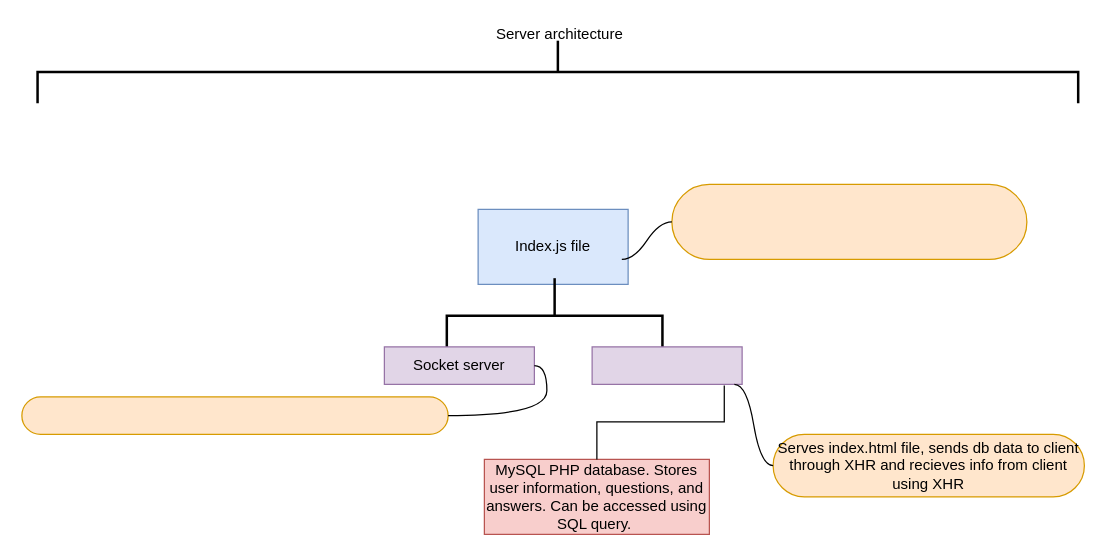
This 1106x556 diagram has some shape labels left out. Here are the shapes that lost their labels. From the top down, the centre of each, then its label:
At pixel 849 221: "Acts as a master server. Starts running all servers when started".
At pixel 666 365: "Header server".
At pixel 234 415: "Sends and receives real time data using WebSockets.".
